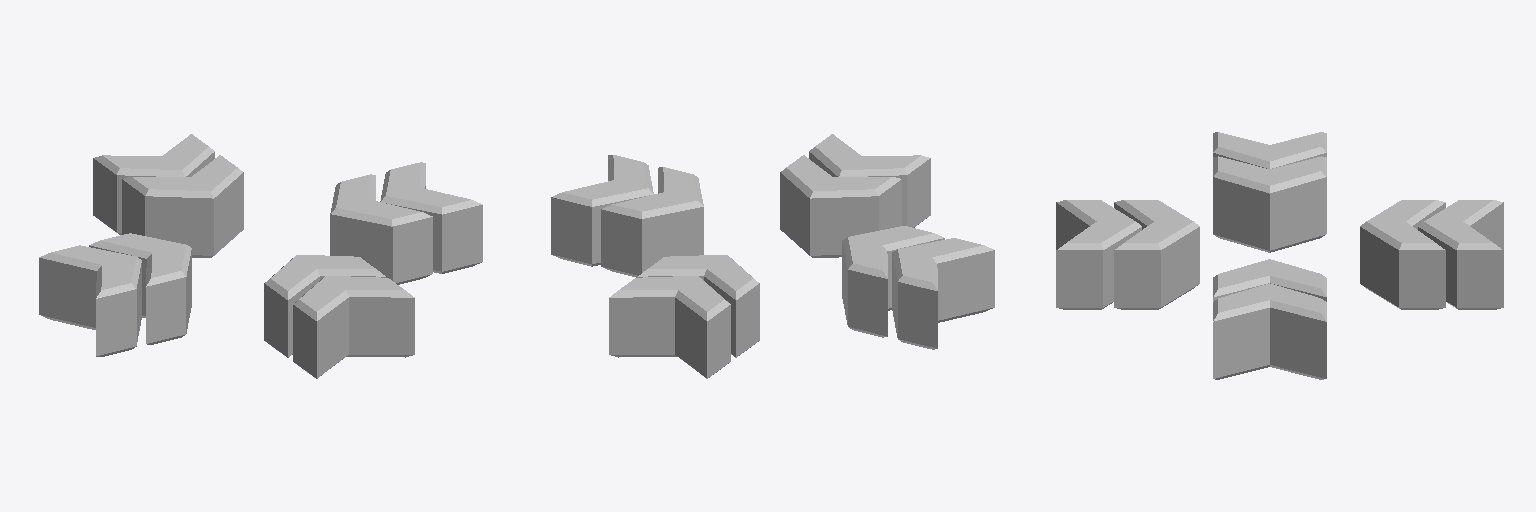
File: arrows.obj
The picture shows the model from 3 angles: view 1: azimuth 30°, elevation 25°; view 2: azimuth 150°, elevation 25°; view 3: azimuth 270°, elevation 25°; orthographic projection.
Visible parts, largest first — view 1: Text, Text.001; view 2: Text, Text.001; view 3: Text.001, Text.
Part boxes in pixels (x1,y1,x2,y2): Text: (39,162,482,356); Text.001: (93,134,414,378); Text: (551,155,994,349); Text.001: (609,134,930,378); Text.001: (1056,200,1503,309); Text: (1213,132,1326,379).
Size of the model in its own units: 1.41 by 0.234 by 1.41.